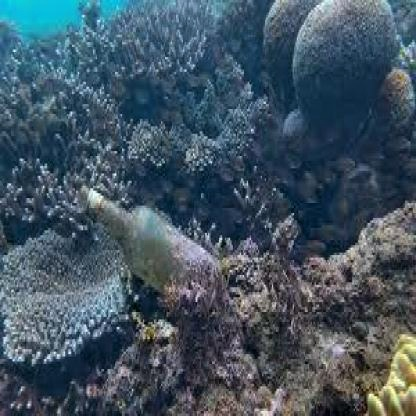gbottle: (87, 188, 219, 300)
